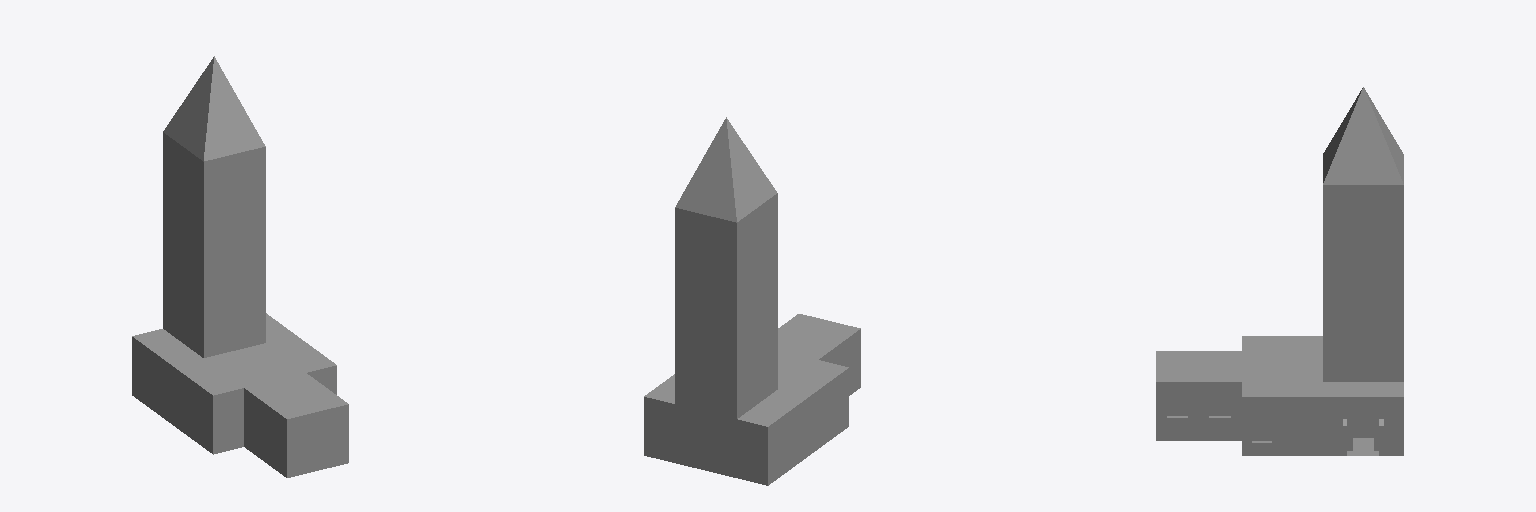
Rendered from newChurch1.obj.
3 views of the same model, side by side, from view 1: azimuth 30°, elevation 25°; view 2: azimuth 150°, elevation 25°; view 3: azimuth 270°, elevation 25° (orthographic).
Visible parts, largest first — view 1: Cube; view 2: Cube; view 3: Cube.
Boxes of the visible parts, x1=… form: Cube: x1=132, y1=56, x2=348, y2=477; Cube: x1=644, y1=117, x2=860, y2=485; Cube: x1=1156, y1=87, x2=1403, y2=455.
Size of the model in its own units: 4.41 by 11.48 by 7.62.